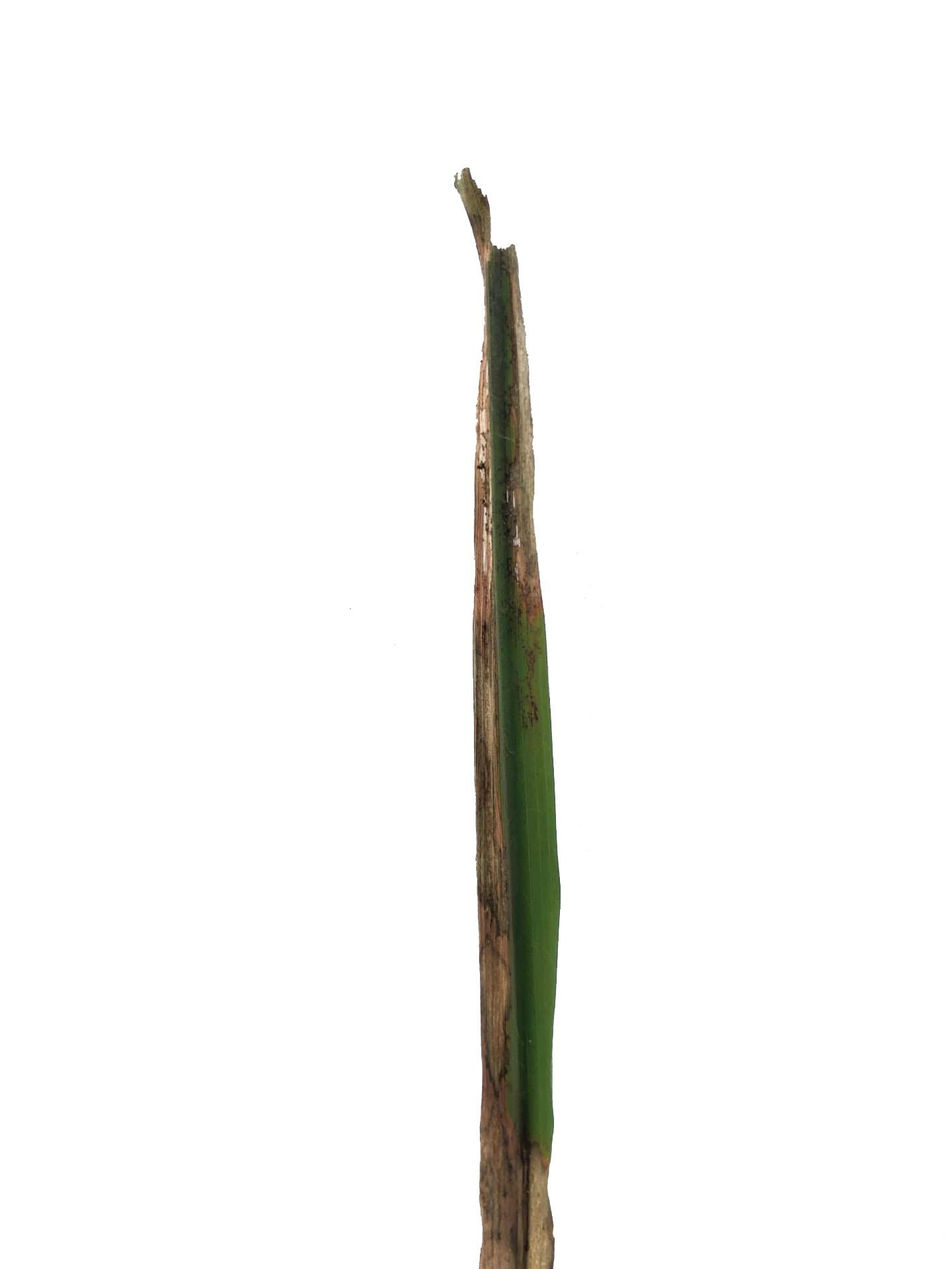Blight: (476, 618, 532, 1256), (466, 241, 549, 615), (493, 1167, 559, 1269)
